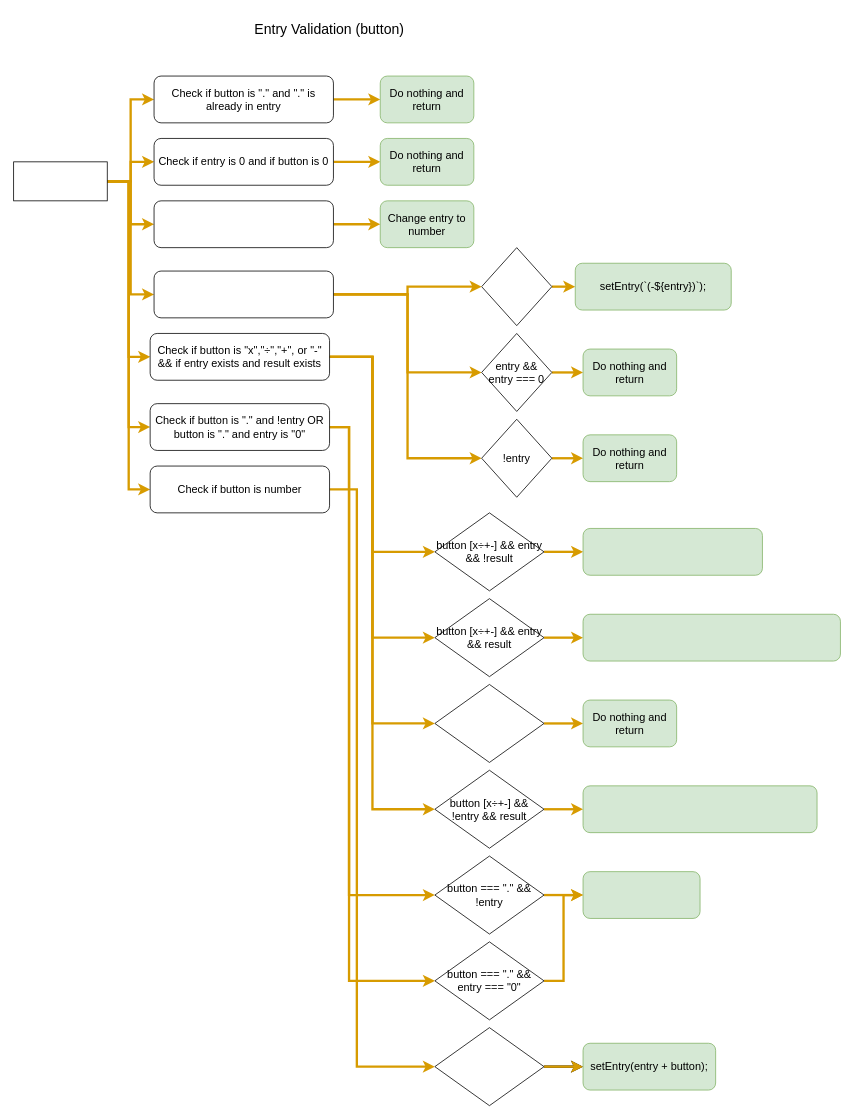
Some shapes in this 854 by 1119 pixel diagram are drawn without their labels. The centre of each missing label's shape, as x and y in pixels:
button [x÷+-] && !entry && !result: (489,723)
button is number: (489,1066)
Check if entry is 0 and button is number other than 0: (243,224)
Checks before setting entry: (60,181)
entry && entry !== 0: (516,286)
setEntry("0.");: (641,894)
setResult(${result.slice(0,-2)} ${button} `);: (699,809)
setResult(`${entry} ${button} `); setEntry("");: (672,551)
setResult(`${result} ${button} ${entry} `); setEntry("");: (711,637)
When making number negative, check if entry exists && is entry 0: (243,294)
